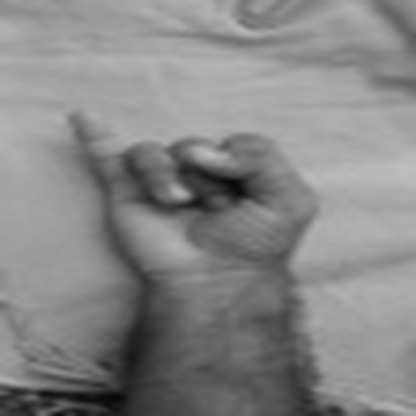i: (59, 102, 326, 286)
